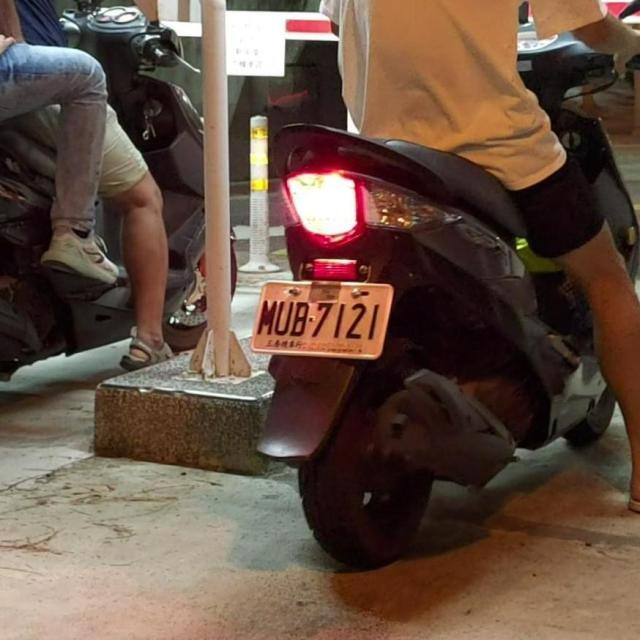W: (249, 272, 398, 362)
